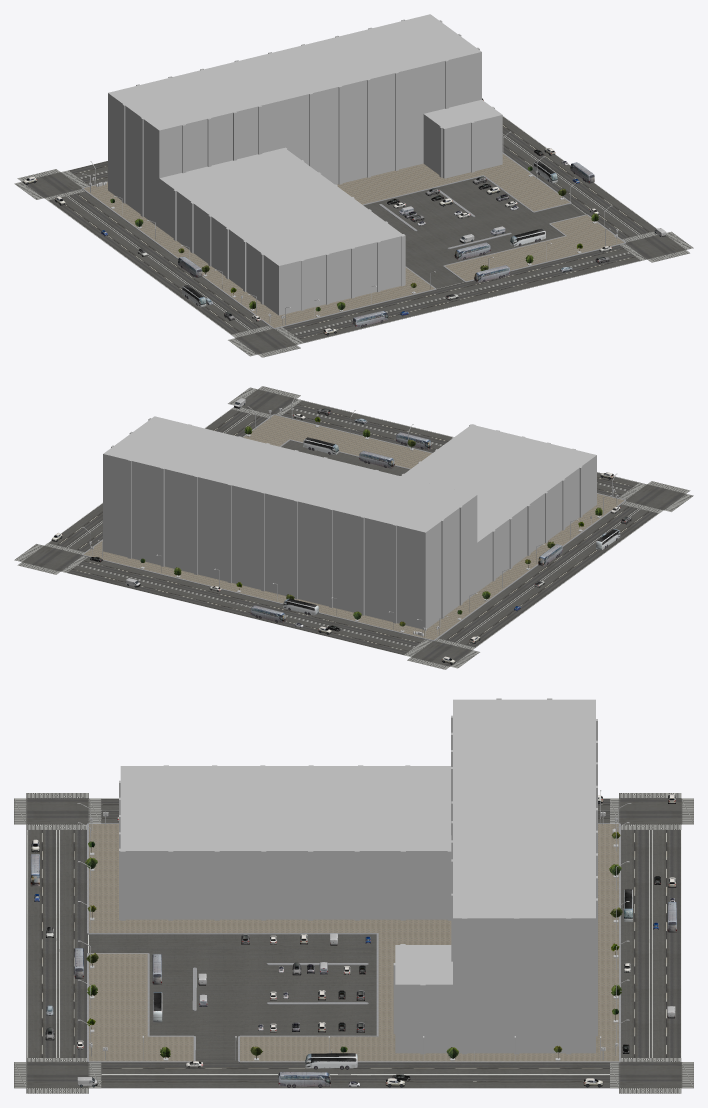
File: BakeBlock 1.fbx
3 views of the same model, one above another, from view 1: azimuth 30°, elevation 25°; view 2: azimuth 150°, elevation 25°; view 3: azimuth 270°, elevation 25° (orthographic). The views are drawn at different scales.
Visible parts, largest first — view 1: Block14, Land.028, Roads.006, Land.059, Roads.011, Roads.001, Bardure1.008, SUVwhite.147, SUVwhite.167; view 2: Block14, Roads.011, Land.028, Roads.006, Roads.001, Bardure1.008, SUVwhite.147, Land.059; view 3: Block14, Land.028, Roads.011, Land.059, Roads.006, Roads.001, Bardure1.008, SUVwhite.167, TreePeach.046.
Boxes of the visible parts, box(x1,y1,x2,y2) form: Block14: box(108, 14, 502, 315); Land.028: box(83, 153, 624, 327); Roads.006: box(48, 116, 656, 334); Land.059: box(364, 176, 585, 288); Roads.011: box(69, 161, 640, 342); Roads.001: box(14, 169, 693, 357); Bardure1.008: box(82, 152, 625, 328); SUVwhite.147: box(55, 196, 261, 321); SUVwhite.167: box(482, 98, 666, 236); Block14: box(103, 416, 596, 629); Roads.011: box(67, 400, 638, 655); Land.028: box(83, 415, 624, 639); Roads.006: box(48, 409, 658, 647); Roads.001: box(14, 386, 693, 669); Bardure1.008: box(82, 414, 625, 641); SUVwhite.147: box(469, 506, 631, 643); Land.059: box(281, 440, 409, 475); Block14: box(119, 698, 597, 1054); Land.028: box(89, 824, 618, 1061); Roads.011: box(26, 830, 681, 1057); Land.059: box(89, 934, 376, 1061); Roads.006: box(101, 798, 609, 1088); Roads.001: box(14, 793, 693, 1093); Bardure1.008: box(87, 823, 620, 1062); SUVwhite.167: box(77, 1053, 603, 1087); TreePeach.046: box(85, 841, 562, 1060).
Size of the model in its own units: 22802 by 4827 by 21801.
